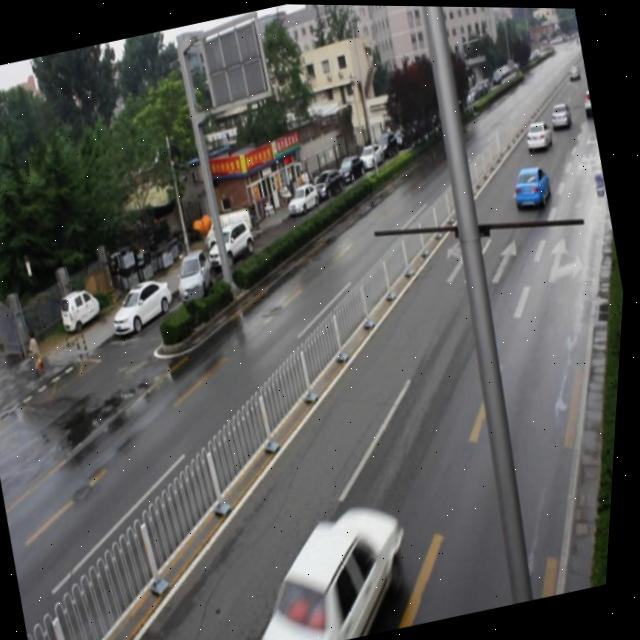car: (239, 491, 428, 640), (507, 157, 555, 213), (521, 115, 554, 153)
